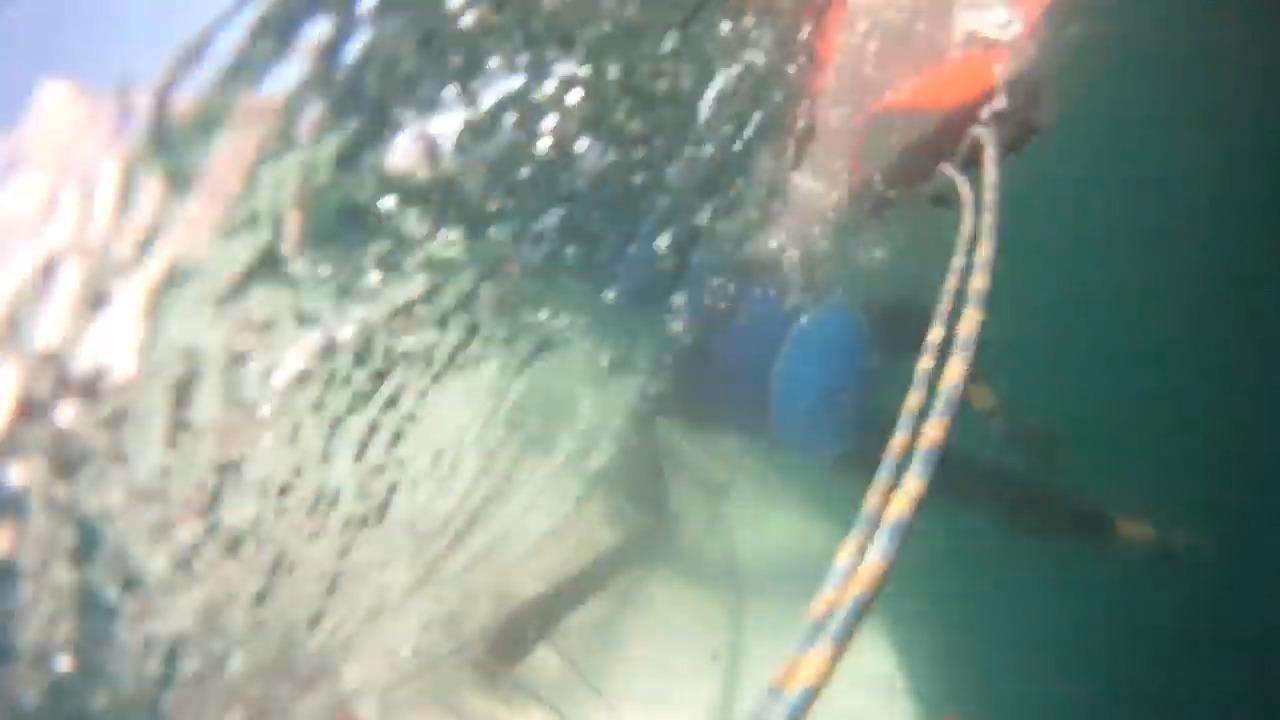boat: (0, 0, 1049, 720)
person: (482, 241, 1174, 673)
sky: (0, 0, 238, 130)
underwater: (0, 0, 1280, 720)
